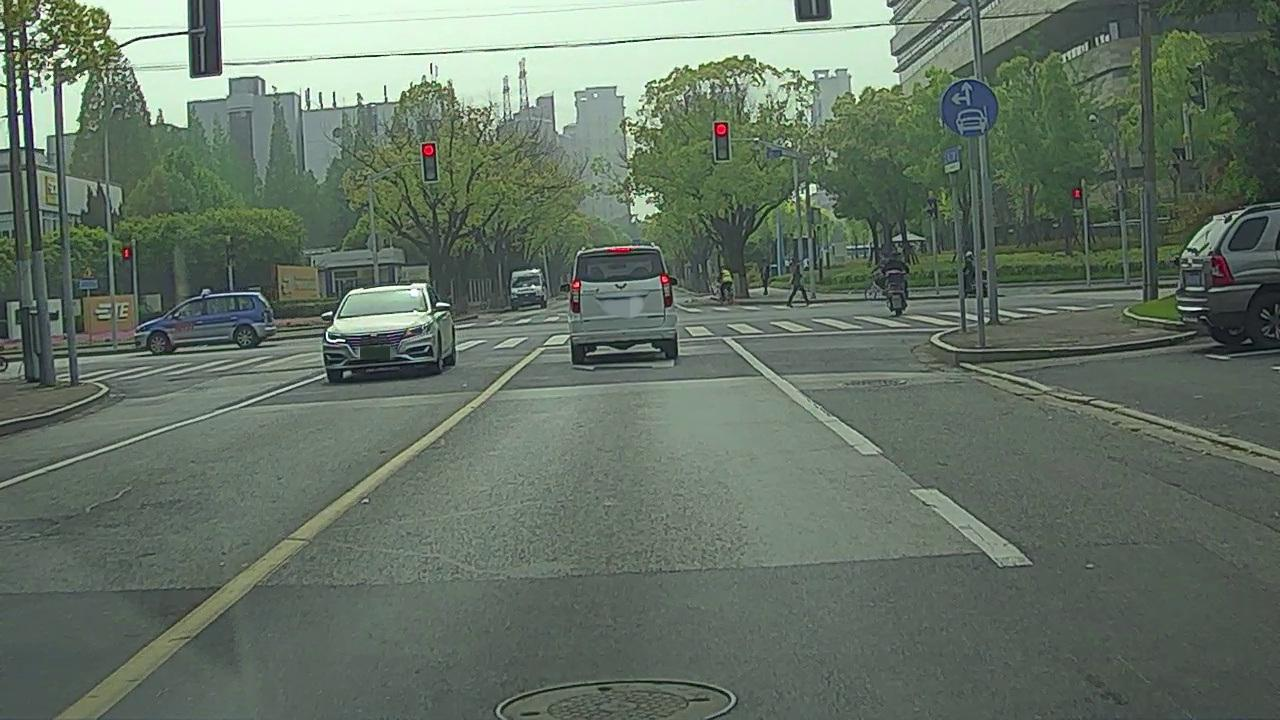traffic_light: (713, 123, 730, 162), (422, 145, 437, 180)
